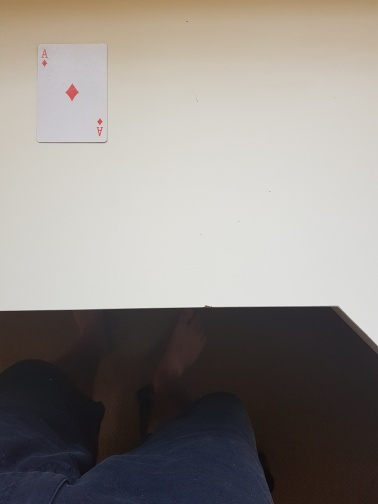ace: (36, 42, 109, 144)
